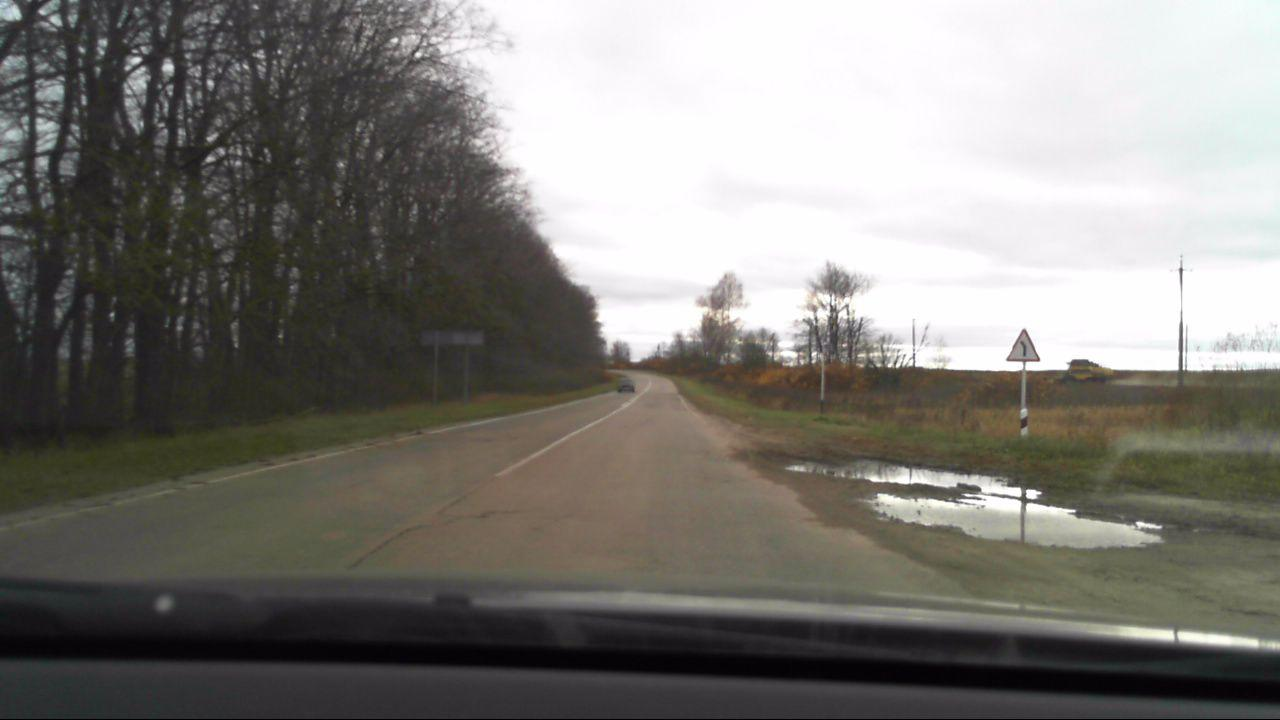1_11_2: (1004, 328, 1041, 362)
